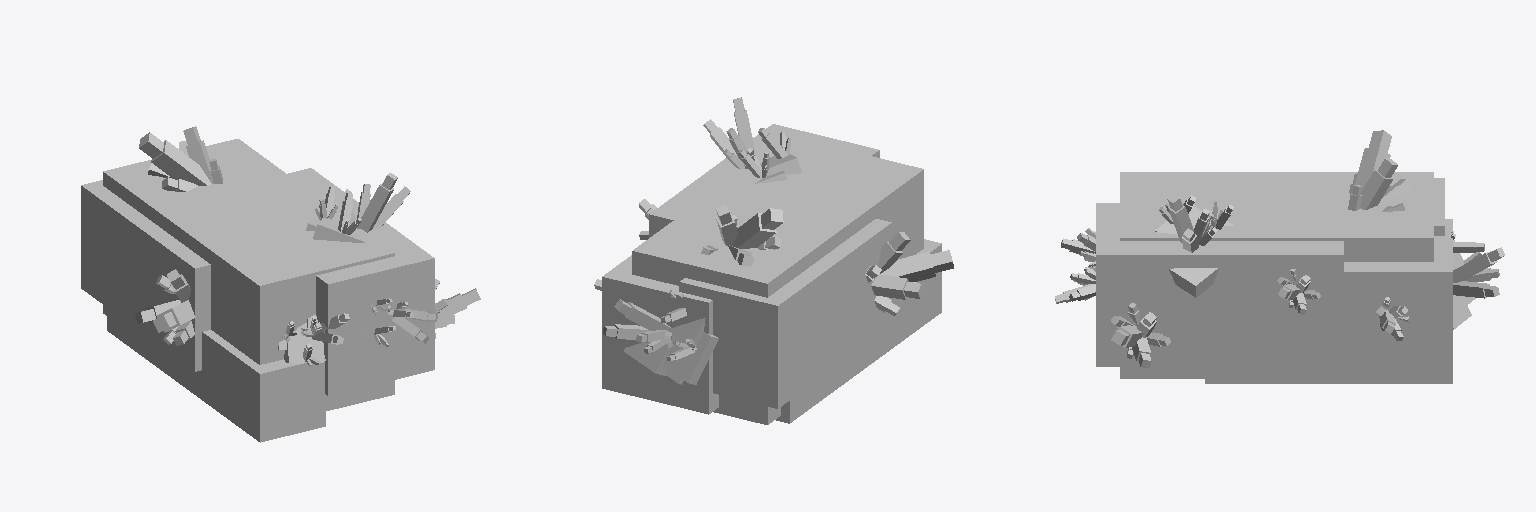
Rendered from crystal asteroid 2.obj.
The picture shows the model from 3 angles: view 1: azimuth 30°, elevation 25°; view 2: azimuth 150°, elevation 25°; view 3: azimuth 270°, elevation 25°; orthographic projection.
Parts seen in each view (by area): view 1: asteroid_crystal_3 crystal_asteroid_1, crystal_asteroid_1 cyrstal2_crystal_ore_base; view 2: asteroid_crystal_3 crystal_asteroid_1, crystal_asteroid_1 cyrstal2_crystal_ore_base; view 3: asteroid_crystal_3 crystal_asteroid_1, crystal_asteroid_1 cyrstal2_crystal_ore_base.
Part boxes in pixels (left/top/right/bottom): asteroid_crystal_3 crystal_asteroid_1: left=81, top=139, right=434, bottom=442; crystal_asteroid_1 cyrstal2_crystal_ore_base: left=135, top=126, right=480, bottom=366; asteroid_crystal_3 crystal_asteroid_1: left=602, top=124, right=941, bottom=424; crystal_asteroid_1 cyrstal2_crystal_ore_base: left=594, top=97, right=953, bottom=384; asteroid_crystal_3 crystal_asteroid_1: left=1096, top=172, right=1452, bottom=383; crystal_asteroid_1 cyrstal2_crystal_ore_base: left=1055, top=130, right=1504, bottom=367.
Size of the model in its own units: 8.48 by 5.65 by 11.48.